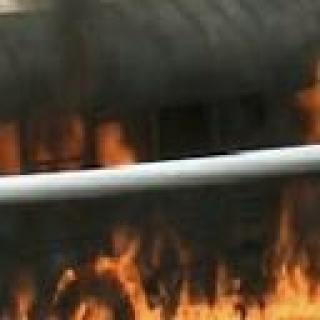fire: (0, 217, 317, 320), (0, 128, 128, 175)
